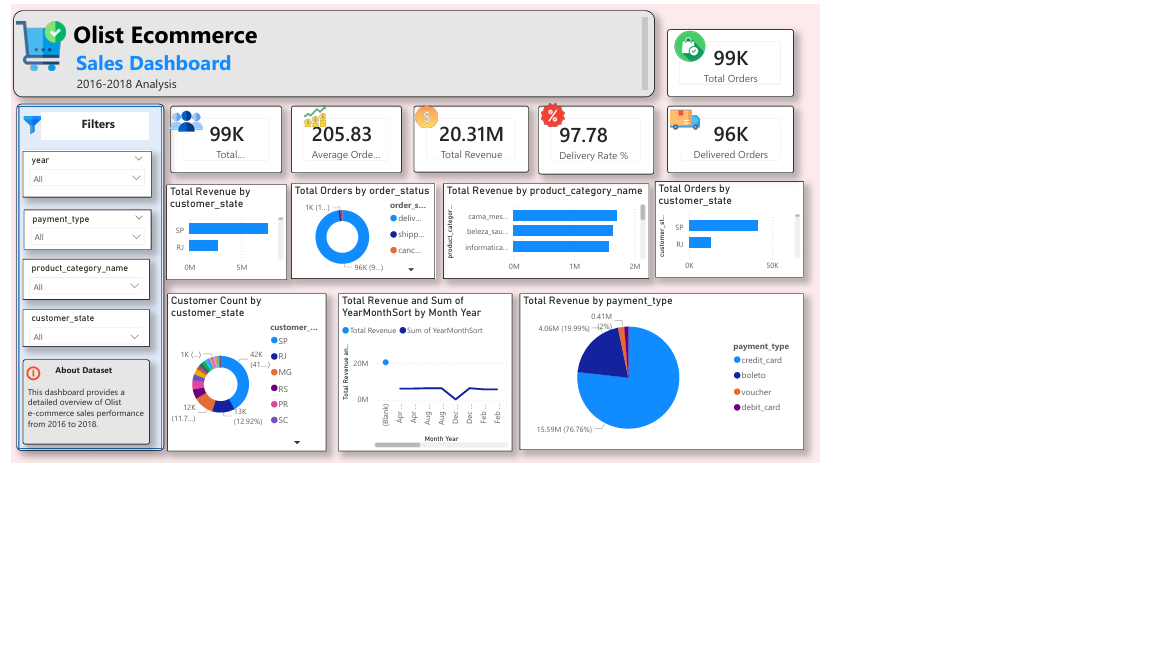

The page's visual inventory and layout, read from the dashboard file:
{"tool":"powerbi","page":{"name":"Page 1","canvas":[1280,720],"ordinal":0},"visuals":[{"type":"cardVisual","fields":{"Data":["fact_sales.Total Customers"]},"box":[253.8,161.9,177.4,107.5],"z":0},{"type":"shape","box":[8.3,158.6,235.1,552.3],"z":1000},{"type":"cardVisual","fields":{"Data":["fact_sales.Total Orders"]},"box":[1043.7,40.1,200.7,107.5],"z":2000},{"type":"cardVisual","fields":{"Data":["fact_sales.Total Revenue"]},"box":[639.7,161.9,182.6,106.2],"z":3000},{"type":"cardVisual","fields":{"Data":["fact_sales.Average Order Value"]},"box":[444.2,161.9,176.1,107.5],"z":4000},{"type":"lineChart","fields":{"Category":["dim_date.Month Year"],"Y":["fact_sales.Total Revenue","Sum(dim_date.YearMonthSort)"]},"box":[519.3,459.7,277.1,251.2],"z":5000},{"type":"clusteredBarChart","fields":{"Y":["fact_sales.Total Revenue"],"Category":["dim_customer.customer_state"]},"box":[246.3,286.6,192,151.7],"z":6000},{"type":"clusteredBarChart","fields":{"Y":["fact_sales.Total Revenue"],"Category":["dim_product.product_category_name"]},"box":[686.3,284.9,327.6,151.5],"z":7000},{"type":"pieChart","fields":{"Category":["fact_sales.payment_type"],"Y":["fact_sales.Total Revenue"]},"box":[808.1,459.6,451.9,248.9],"z":8000},{"type":"clusteredBarChart","fields":{"Category":["dim_customer.customer_state"],"Y":["fact_sales.Total Orders"]},"box":[1023,282.3,237,152.8],"z":9000},{"type":"slicer","fields":{"Values":["dim_date.year"]},"box":[18.1,233.7,204.5,73.7],"z":10000},{"type":"donutChart","fields":{"Category":["fact_sales.order_status"],"Y":["fact_sales.Total Orders"]},"box":[444.2,284.9,229.2,151.5],"z":11000},{"type":"cardVisual","fields":{"Data":["fact_sales.Delivered Orders"]},"box":[1043.7,161.9,200.7,107.5],"z":12000},{"type":"cardVisual","fields":{"Data":["fact_sales.Delivery Rate %"]},"box":[839.1,161.9,183.9,108.8],"z":13000},{"type":"donutChart","fields":{"Category":["dim_customer.customer_state"],"Y":["fact_sales.Customer Count"]},"box":[248.6,459.7,252.5,251.2],"z":14000},{"type":"slicer","fields":{"Values":["fact_sales.payment_type"]},"box":[19.5,327,203.1,64],"z":15000},{"type":"slicer","fields":{"Values":["dim_product.product_category_name"]},"box":[18.1,404.9,201.7,65.4],"z":16000},{"type":"slicer","fields":{"Values":["dim_customer.customer_state"]},"box":[18.1,485.6,201.7,59.8],"z":17000},{"type":"image","box":[253.2,147.5,51.5,79.3],"z":18000},{"type":"image","box":[634.5,161.9,51.8,36.3],"z":19000},{"type":"image","box":[1043.7,159.3,57,47.9],"z":20000},{"type":"image","box":[822.3,158,79,37.6],"z":21000},{"type":"textbox","box":[2.6,10.2,1020,137.9],"z":22000},{"type":"image","box":[8.3,26.4,79.3,80.7],"z":23000},{"type":"image","box":[18.1,178.7,31.1,28.5],"z":24000},{"type":"textbox","box":[48.7,171.1,171.1,43.1],"z":25000},{"type":"image","box":[444.2,161.9,77.7,33.7],"z":26000},{"type":"image","box":[1052.8,40.1,51.8,54.4],"z":27000},{"type":"textbox","box":[18.1,564.9,201.7,135],"z":28000},{"type":"actionButton","box":[19.5,571.8,43.1,30.6],"z":29000}]}

Visuals, with their boxes in screenshot pixels (x1, y1, x2, y2), scaled from the page's 1280x720 canvas onto the 1152x648 screenshot:
cardVisual - fact_sales.Total Customers: <bbox>228, 146, 388, 242</bbox>
shape: <bbox>7, 143, 219, 640</bbox>
cardVisual - fact_sales.Total Orders: <bbox>939, 36, 1120, 133</bbox>
cardVisual - fact_sales.Total Revenue: <bbox>576, 146, 740, 241</bbox>
cardVisual - fact_sales.Average Order Value: <bbox>400, 146, 558, 242</bbox>
lineChart - dim_date.Month Year x fact_sales.Total Revenue: <bbox>467, 414, 717, 640</bbox>
clusteredBarChart - fact_sales.Total Revenue x dim_customer.customer_state: <bbox>222, 258, 394, 394</bbox>
clusteredBarChart - fact_sales.Total Revenue x dim_product.product_category_name: <bbox>618, 256, 913, 393</bbox>
pieChart - fact_sales.payment_type x fact_sales.Total Revenue: <bbox>727, 414, 1134, 638</bbox>
clusteredBarChart - dim_customer.customer_state x fact_sales.Total Orders: <bbox>921, 254, 1134, 392</bbox>
slicer - dim_date.year: <bbox>16, 210, 200, 277</bbox>
donutChart - fact_sales.order_status x fact_sales.Total Orders: <bbox>400, 256, 606, 393</bbox>
cardVisual - fact_sales.Delivered Orders: <bbox>939, 146, 1120, 242</bbox>
cardVisual - fact_sales.Delivery Rate %: <bbox>755, 146, 921, 244</bbox>
donutChart - dim_customer.customer_state x fact_sales.Customer Count: <bbox>224, 414, 451, 640</bbox>
slicer - fact_sales.payment_type: <bbox>18, 294, 200, 352</bbox>
slicer - dim_product.product_category_name: <bbox>16, 364, 198, 423</bbox>
slicer - dim_customer.customer_state: <bbox>16, 437, 198, 491</bbox>
image: <bbox>228, 133, 274, 204</bbox>
image: <bbox>571, 146, 618, 178</bbox>
image: <bbox>939, 143, 991, 186</bbox>
image: <bbox>740, 142, 811, 176</bbox>
textbox: <bbox>2, 9, 920, 133</bbox>
image: <bbox>7, 24, 79, 96</bbox>
image: <bbox>16, 161, 44, 186</bbox>
textbox: <bbox>44, 154, 198, 193</bbox>
image: <bbox>400, 146, 470, 176</bbox>
image: <bbox>948, 36, 994, 85</bbox>
textbox: <bbox>16, 508, 198, 630</bbox>
actionButton: <bbox>18, 515, 56, 542</bbox>
